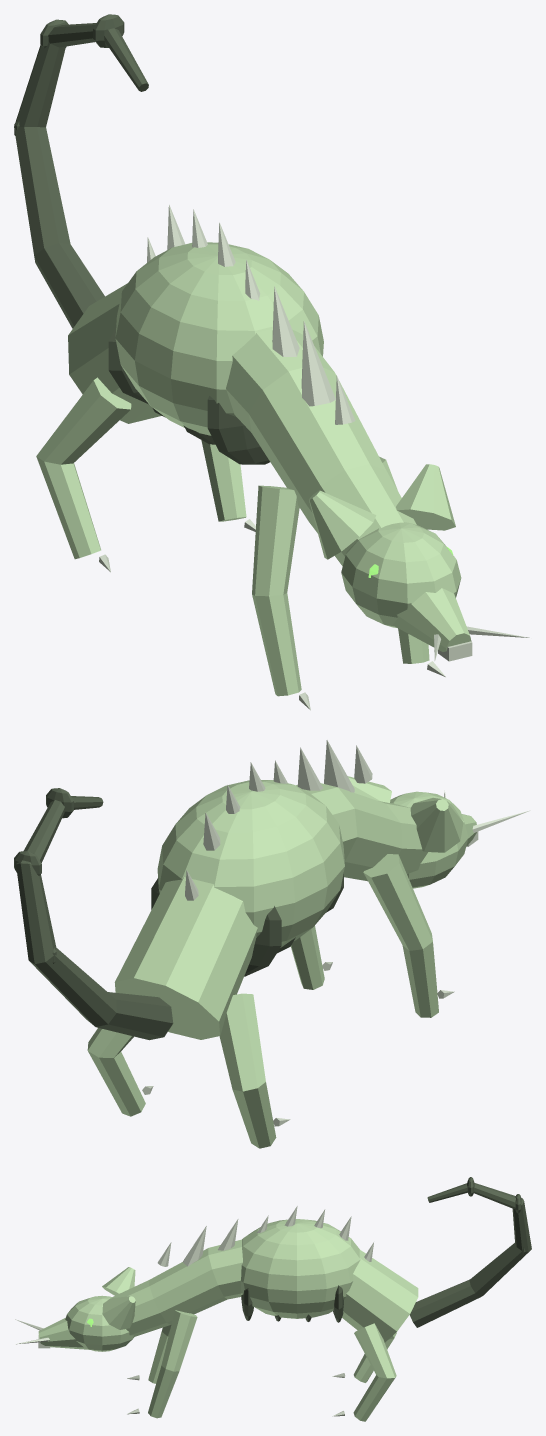
File: scarrat.glb
3 views of the same model, one above another, from view 1: azimuth 30°, elevation 25°; view 2: azimuth 150°, elevation 25°; view 3: azimuth 270°, elevation 25° (orthographic). The views are drawn at different scales.
Visible parts, largest first — view 1: scarrat_body, scarrat_dark, scarrat_bone; view 2: scarrat_body, scarrat_dark, scarrat_bone; view 3: scarrat_body, scarrat_dark, scarrat_bone.
Boxes of the visible parts, bbox=[...] form: scarrat_body: bbox=[36, 242, 471, 696]; scarrat_dark: bbox=[14, 14, 269, 464]; scarrat_bone: bbox=[99, 204, 529, 710]; scarrat_body: bbox=[87, 776, 476, 1148]; scarrat_dark: bbox=[14, 788, 343, 1040]; scarrat_bone: bbox=[142, 740, 530, 1126]; scarrat_body: bbox=[38, 1219, 418, 1421]; scarrat_dark: bbox=[241, 1177, 531, 1327]; scarrat_bone: bbox=[15, 1206, 373, 1416].
Size of the model in its own units: 0.3667 by 0.8 by 1.59.
